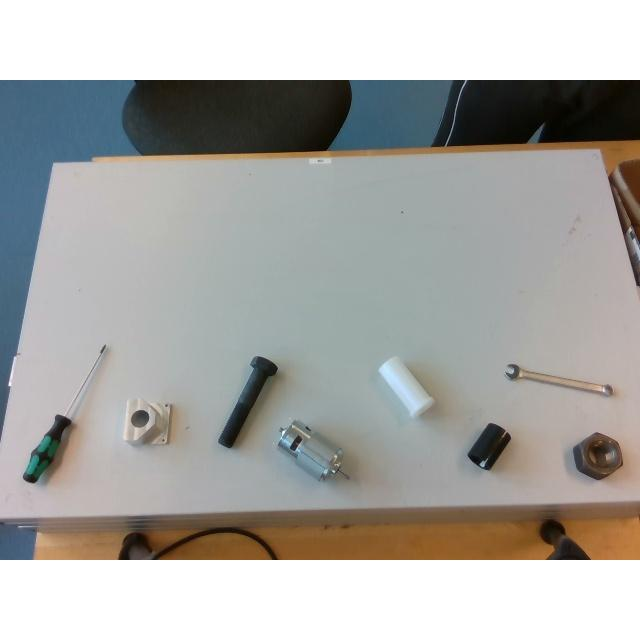M20_100: (218, 357, 278, 448)
M30: (572, 433, 622, 479)
Motor2: (276, 420, 348, 480)
Screwdriver: (22, 344, 106, 484)
Spacer: (378, 356, 434, 416)
